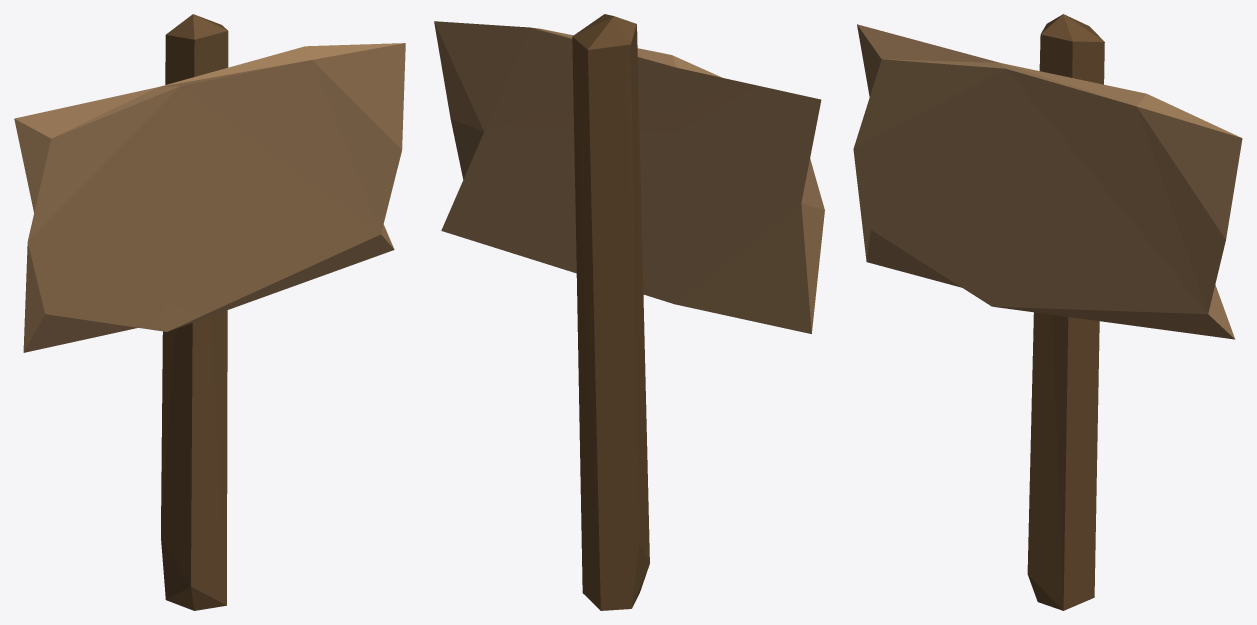
File: Pointer_01.fbx
3 renders of one model, left to right at view 1: azimuth 30°, elevation 25°; view 2: azimuth 150°, elevation 25°; view 3: azimuth 330°, elevation 25°, orthographic.
Visible parts, largest first — view 1: Pointer_01; view 2: Pointer_01; view 3: Pointer_01.
Boxes of the visible parts, bbox=[...] form: Pointer_01: bbox=[14, 14, 405, 610]; Pointer_01: bbox=[434, 14, 824, 610]; Pointer_01: bbox=[853, 14, 1242, 610].
Bounding box in the file's own units: 1.07 × 1.54 × 0.1931.
